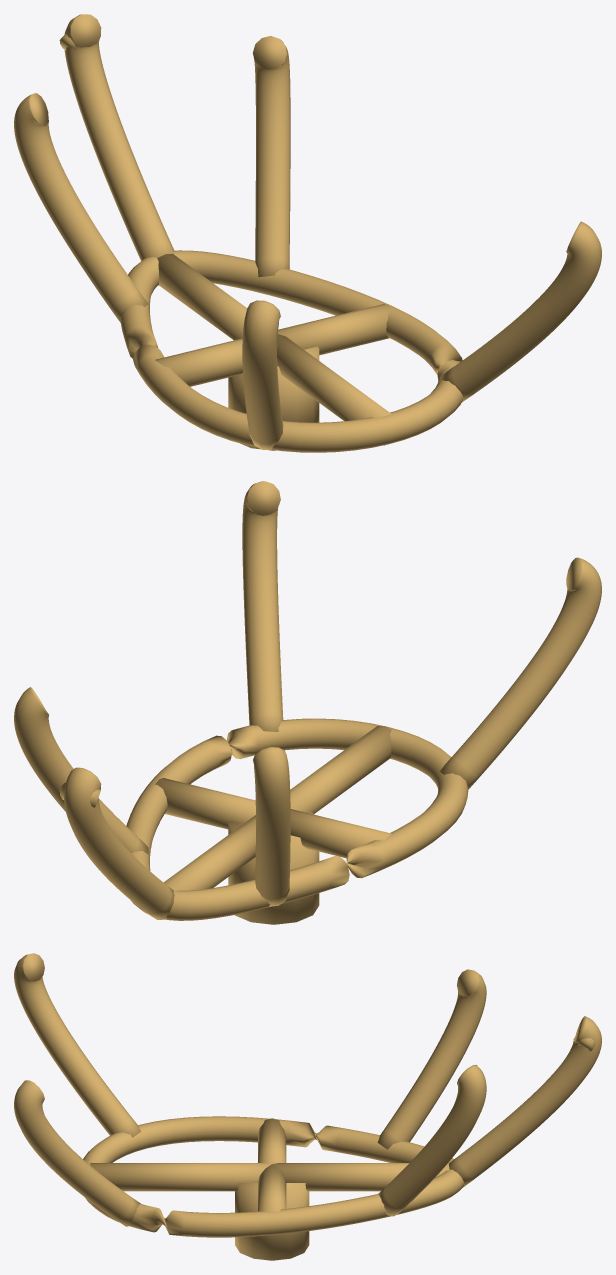
File: stuller-lg-500120766-4-prong.glb
3 views of the same model, one above another, from view 1: azimuth 30°, elevation 25°; view 2: azimuth 150°, elevation 25°; view 3: azimuth 270°, elevation 25° (orthographic). The views are drawn at different scales.
Parts seen in each view (by area): view 1: Metal.166, Metal.175, Metal.171, Metal.172, Metal.174, Metal.173, Metal.170, Metal.168, Metal.167, Metal.169, Metal.165; view 2: Metal.166, Metal.173, Metal.174, Metal.175, Metal.172, Metal.171, Metal.170, Metal.168, Metal.167, Metal.169, Metal.165; view 3: Metal.166, Metal.173, Metal.175, Metal.172, Metal.174, Metal.171, Metal.170, Metal.168, Metal.165, Metal.167, Metal.169.
Boxes of the visible parts, x1,y1,x2,y2 form: Metal.166: (120, 250, 462, 452); Metal.175: (64, 14, 174, 261); Metal.171: (253, 36, 290, 277); Metal.172: (14, 93, 148, 322); Metal.174: (439, 221, 601, 402); Metal.173: (242, 300, 283, 449); Metal.170: (277, 334, 391, 445); Metal.168: (157, 254, 247, 339); Metal.167: (278, 304, 392, 355); Metal.169: (155, 338, 242, 386); Metal.165: (228, 337, 319, 450); Metal.166: (126, 718, 468, 920); Metal.173: (439, 557, 601, 789); Metal.174: (242, 481, 283, 731); Metal.175: (64, 767, 174, 919); Metal.172: (253, 747, 290, 906); Metal.171: (14, 687, 148, 854); Metal.170: (290, 726, 391, 813); Metal.168: (164, 815, 255, 890); Metal.167: (155, 778, 255, 829); Metal.169: (290, 809, 392, 858); Metal.165: (228, 811, 319, 924); Metal.166: (83, 1116, 463, 1237); Metal.173: (14, 953, 140, 1137); Metal.175: (449, 1016, 601, 1187); Metal.172: (377, 969, 486, 1149); Metal.174: (14, 1080, 140, 1226); Metal.171: (378, 1064, 486, 1216); Metal.170: (90, 1163, 271, 1191); Metal.168: (272, 1163, 449, 1191); Metal.165: (235, 1183, 309, 1260); Metal.167: (258, 1164, 286, 1235); Metal.169: (258, 1118, 286, 1163).
Bounding box in the file's own units: 5.41 × 4.05 × 9.49.
